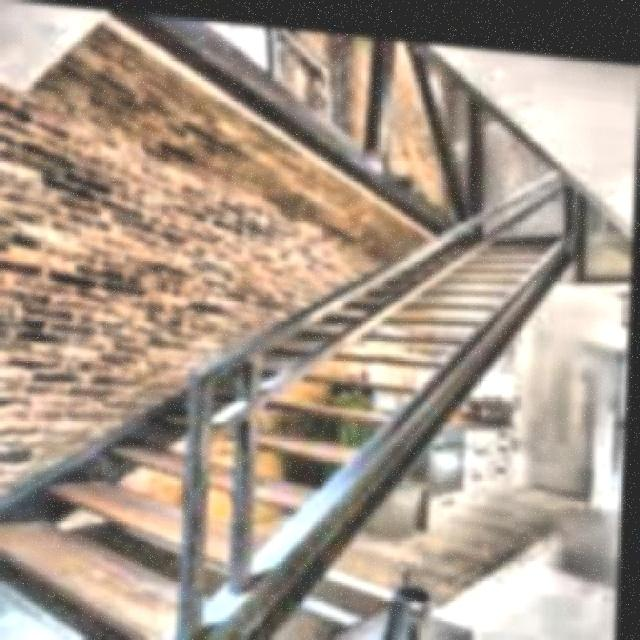stair: (0, 182, 608, 638)
